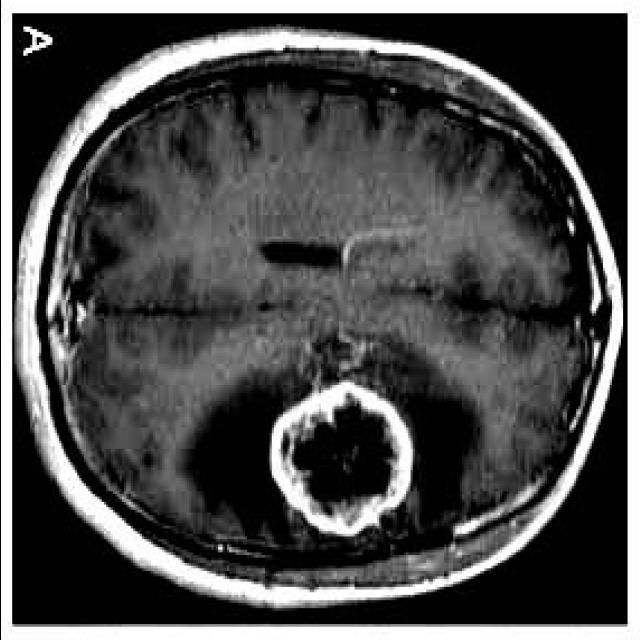tumor: (264, 380, 412, 539)
